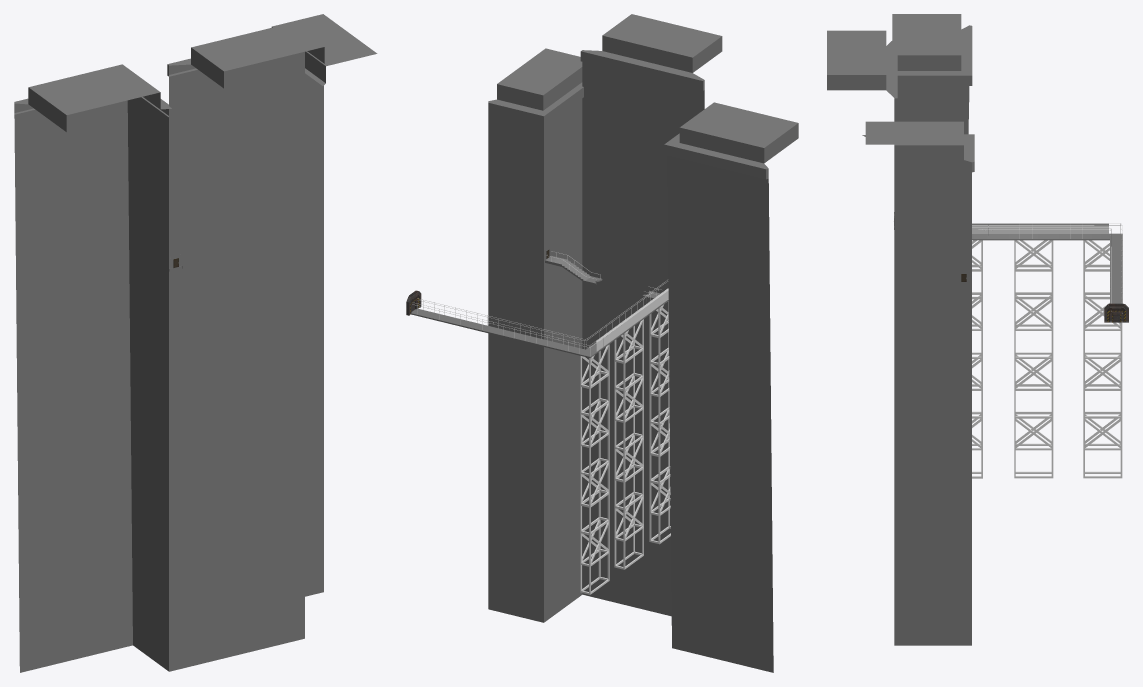
3 renders of one model, left to right at view 1: azimuth 30°, elevation 25°; view 2: azimuth 150°, elevation 25°; view 3: azimuth 270°, elevation 25°, orthographic. The views are drawn at different scales.
Parts seen in each view (by area): view 1: Box010; view 2: Box010, 2S_BridgeX (×5), 2S_2F_RoofFloor, 2S_Bridge, Plane010; view 3: Box010, 2S_BridgeX (×5), 2S_2F_RoofFloor, Plane010, 2S_Bridge.
Part boxes in pixels (left/top/right/bottom): Box010: left=14, top=14, right=377, bottom=672; Box010: left=488, top=14, right=798, bottom=672; 2S_BridgeX (×5): left=580, top=319, right=670, bottom=594; 2S_2F_RoofFloor: left=410, top=299, right=668, bottom=358; 2S_Bridge: left=649, top=301, right=669, bottom=425; Plane010: left=596, top=288, right=668, bottom=351; Box010: left=827, top=14, right=974, bottom=645; 2S_BridgeX (×5): left=972, top=240, right=1122, bottom=478; 2S_2F_RoofFloor: left=894, top=226, right=1122, bottom=322; Plane010: left=894, top=212, right=1108, bottom=233; 2S_Bridge: left=972, top=240, right=982, bottom=358.
Bounding box in the file's own units: 174 × 329 × 160.
